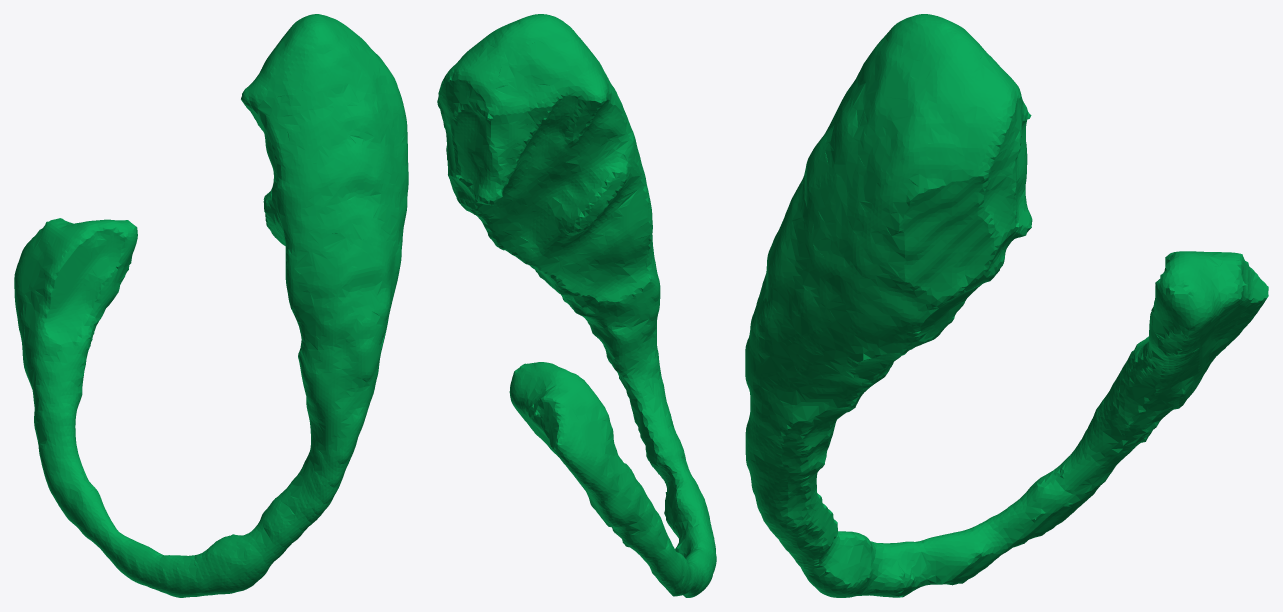
Rendered from Model_10233_LH__Caudate_nucleus_(Cd).obj.
The picture shows the model from 3 angles, left to right: view 1: azimuth 30°, elevation 25°; view 2: azimuth 150°, elevation 25°; view 3: azimuth 270°, elevation 25°; orthographic projection. The views are drawn at different scales.
Bounding box in the file's own units: 7.52 × 13.31 × 9.47.
